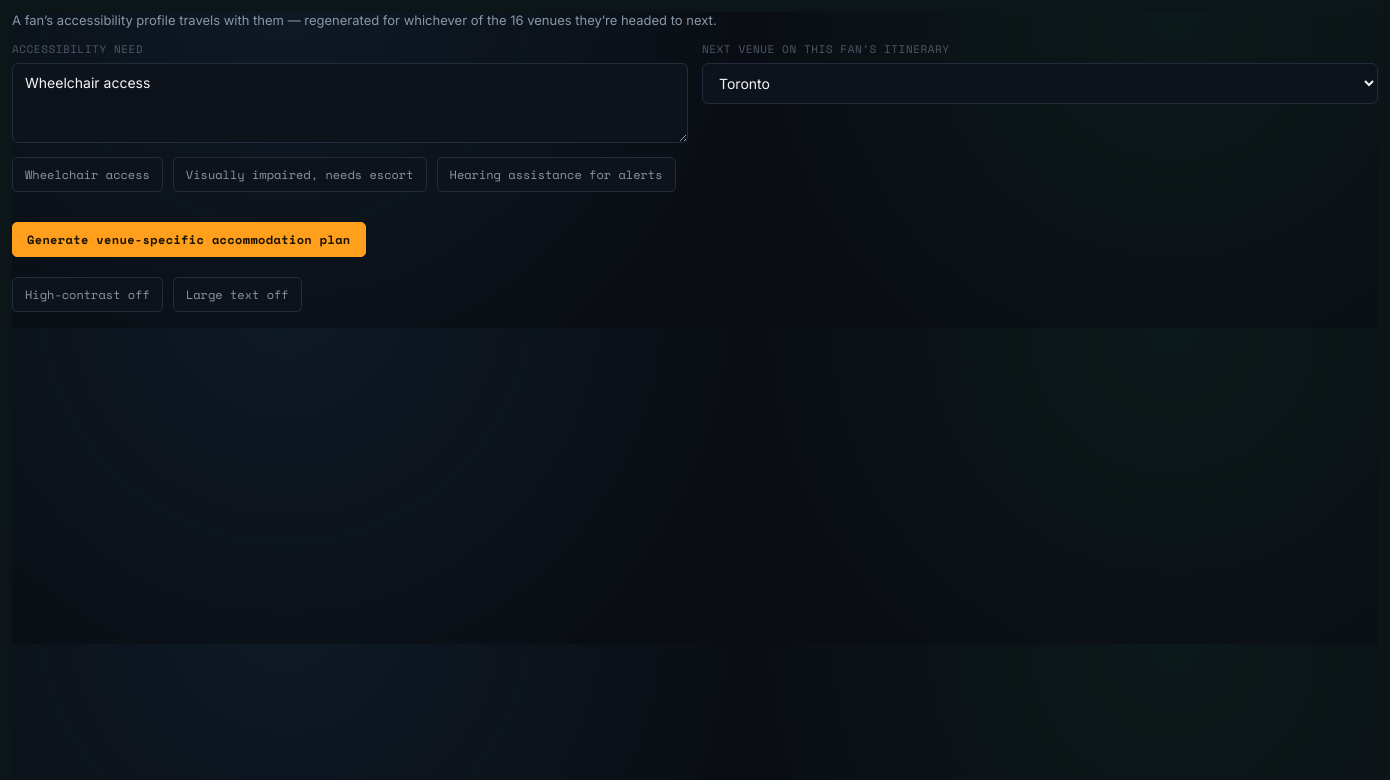
Test: AccessPassport › updates the need field when a preset chip is clicked
What coordinates should you click on to do the following:
click the button "Hearing assistance for alerts"
I would click on:
 (556, 174)
Its box is left=436, top=157, right=676, bottom=192.
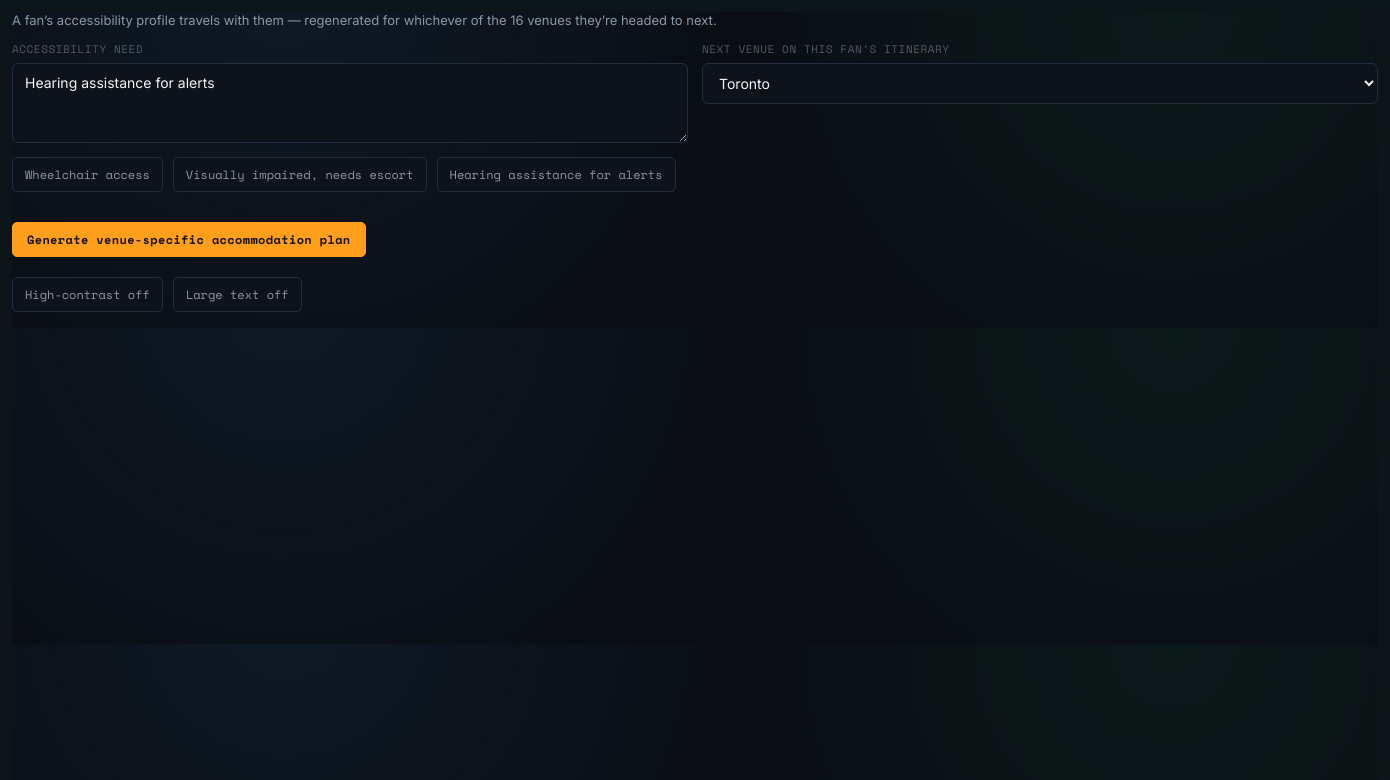
Expected: the text box labelled "Accessibility need" holds "Hearing assistance for alerts", left=12, top=63, right=688, bottom=143
